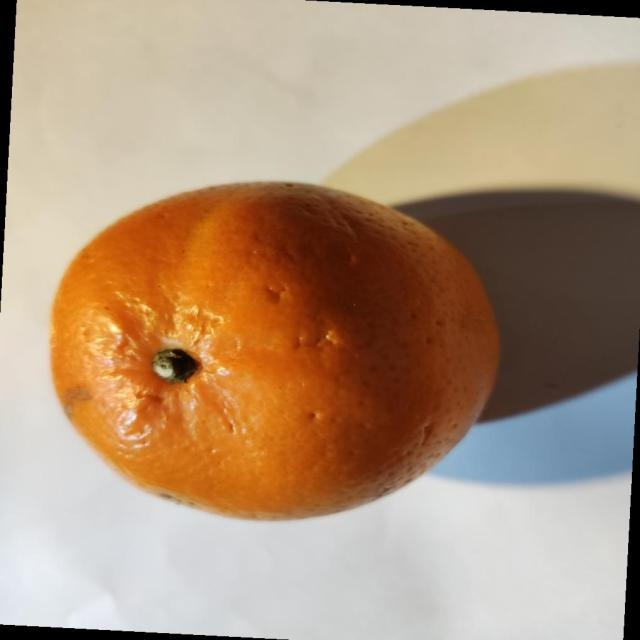agrume: (48, 179, 501, 522)
